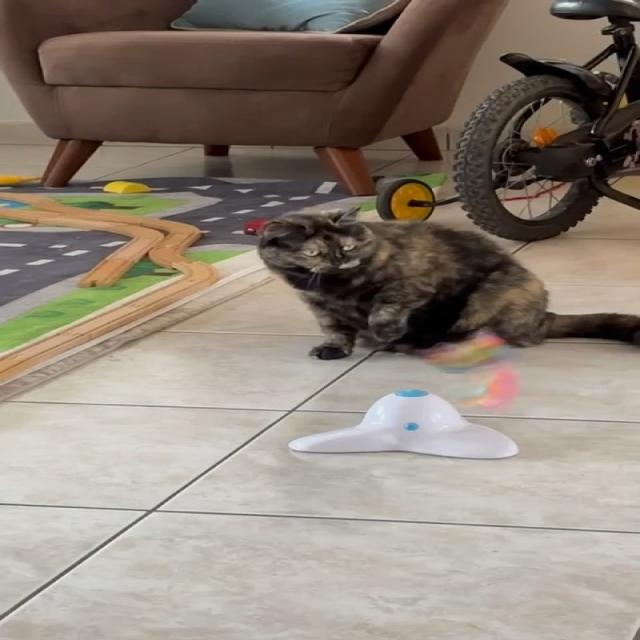authorized: (254, 205, 638, 360)
